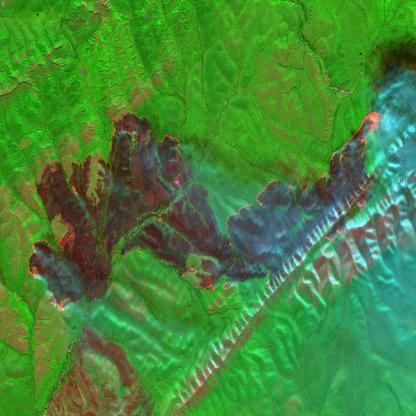fire: (24, 105, 383, 319)
